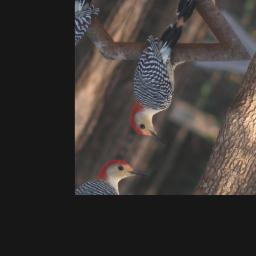Woodpecker: (105, 16, 219, 149)
